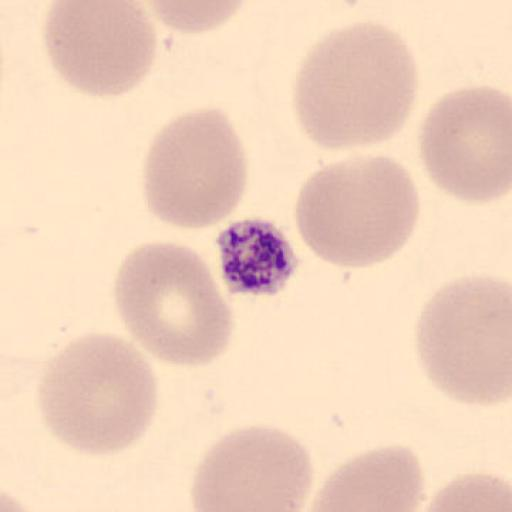Platelet: (216, 214, 300, 298)
RBC: (292, 21, 420, 154), (112, 238, 235, 370), (36, 329, 159, 459), (292, 152, 422, 271), (412, 270, 512, 408), (141, 104, 249, 230), (41, 0, 158, 100), (418, 83, 512, 205), (190, 423, 315, 512), (300, 443, 428, 512), (414, 471, 512, 512), (142, 0, 253, 35), (1, 488, 40, 512)
